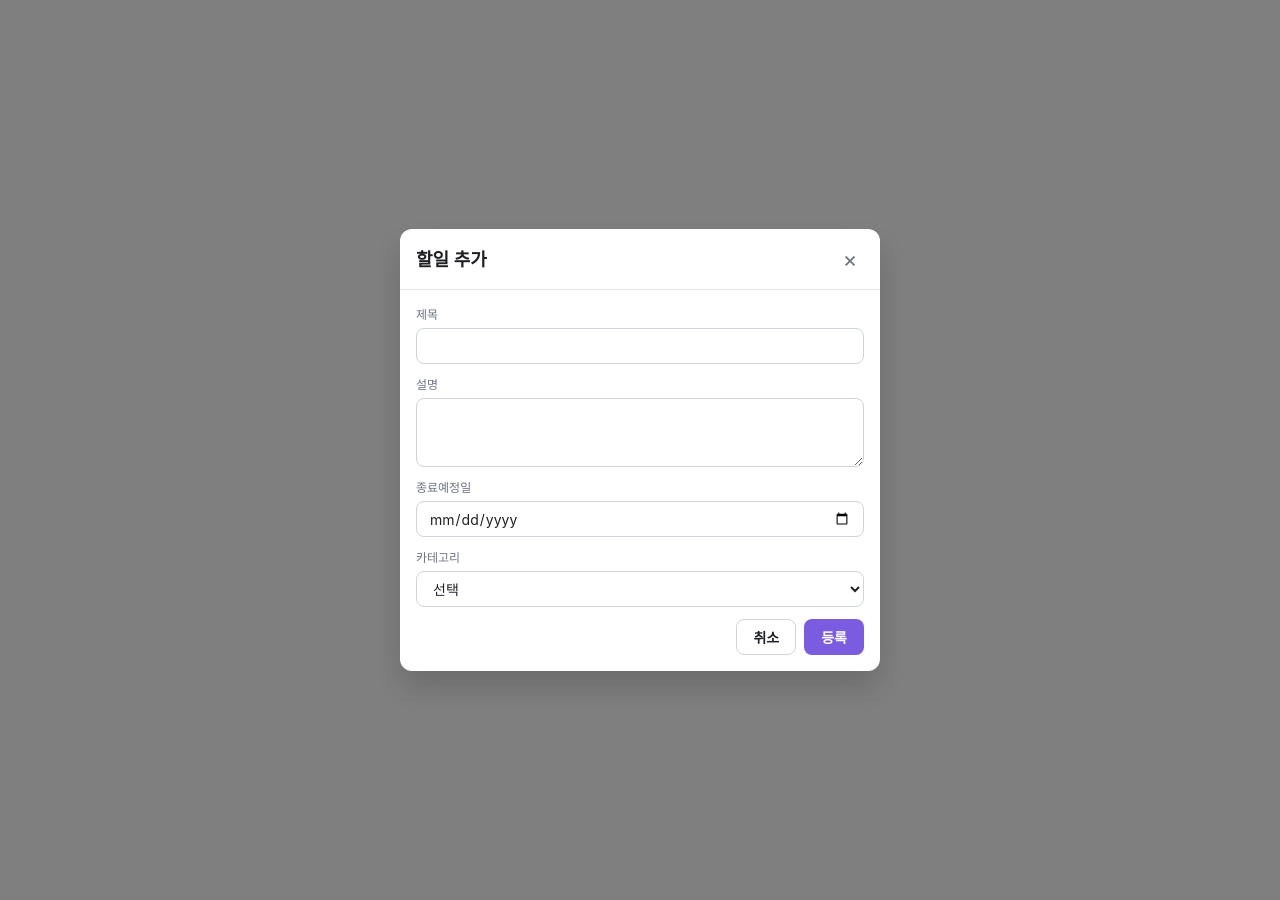
it: TodoForm › 카테고리 미선택 → 검증 에러
The width and height of the screenshot is (1280, 900).
Type "독서" into the field labelled "제목". click: x=640, y=346
box: [416,328,864,364]
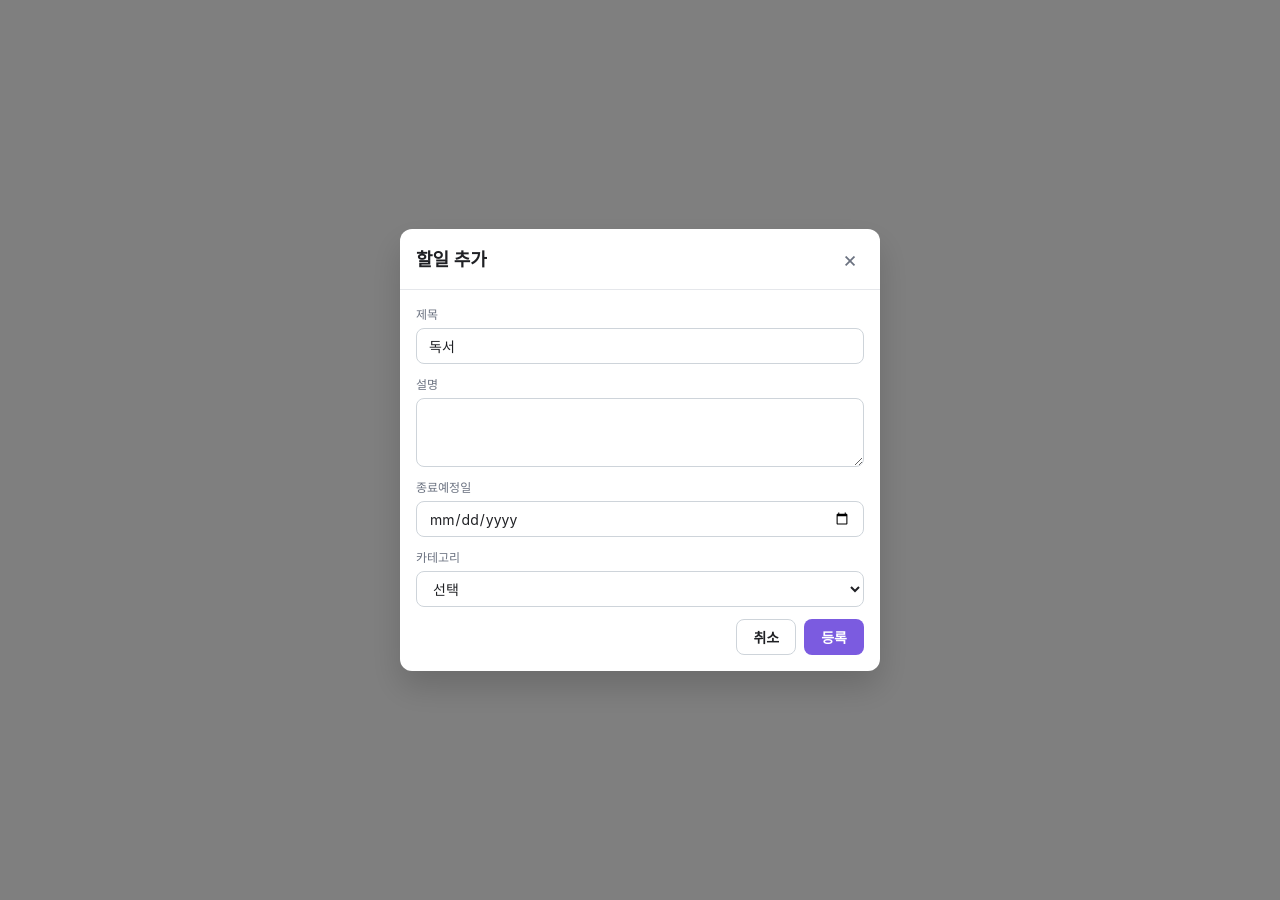
Click the button "등록". click: x=834, y=637
box: [804,619,864,655]
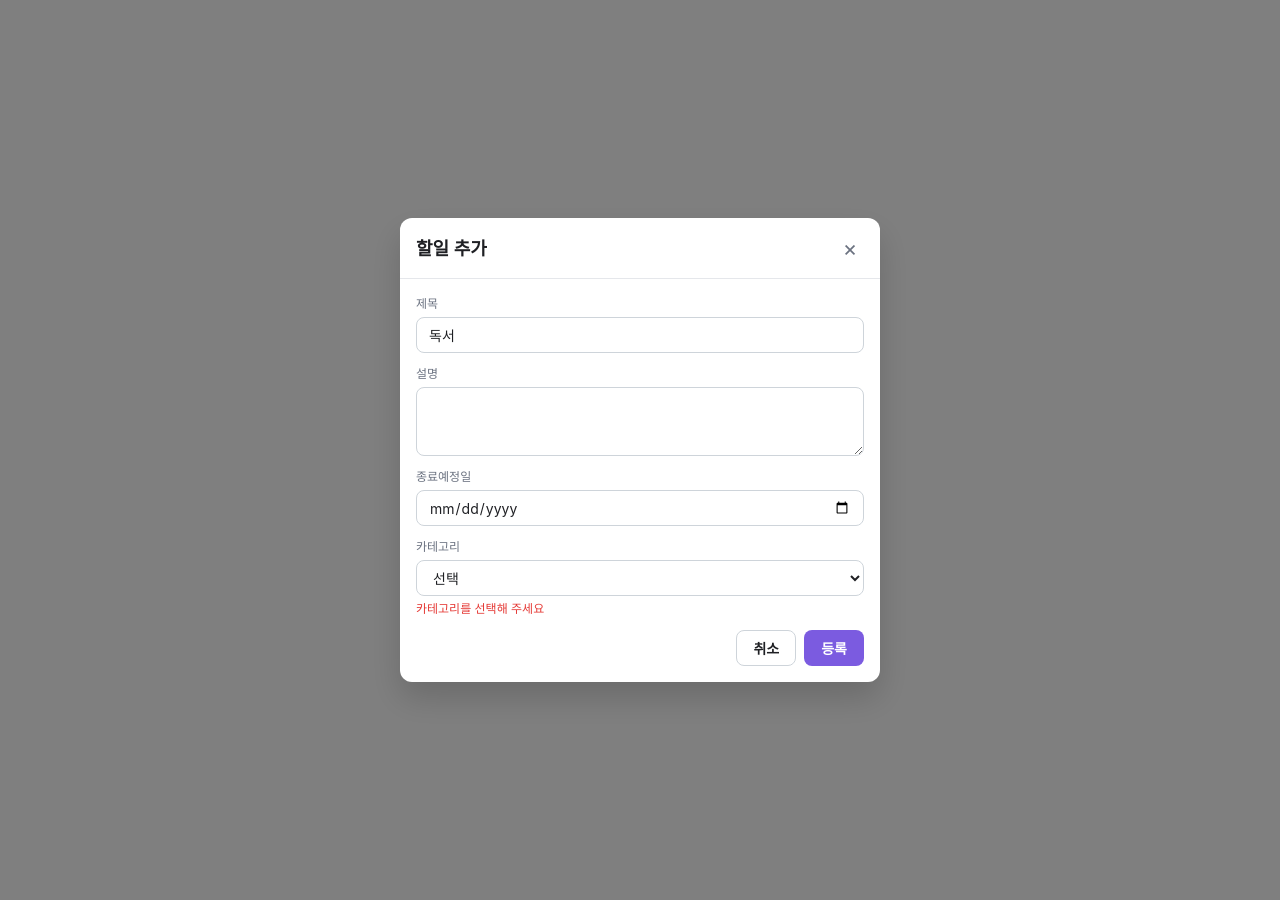
Expected: the text "카테고리를 선택해 주세요" is shown, [416,601,544,616]
